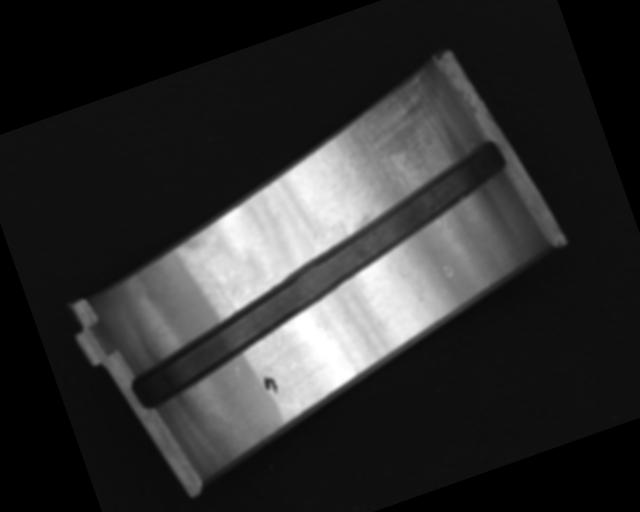blot: (259, 373, 282, 399)
bruise: (440, 263, 455, 279)
gap: (94, 141, 542, 413)
nick: (207, 269, 236, 319)
scratch: (310, 65, 475, 231)
